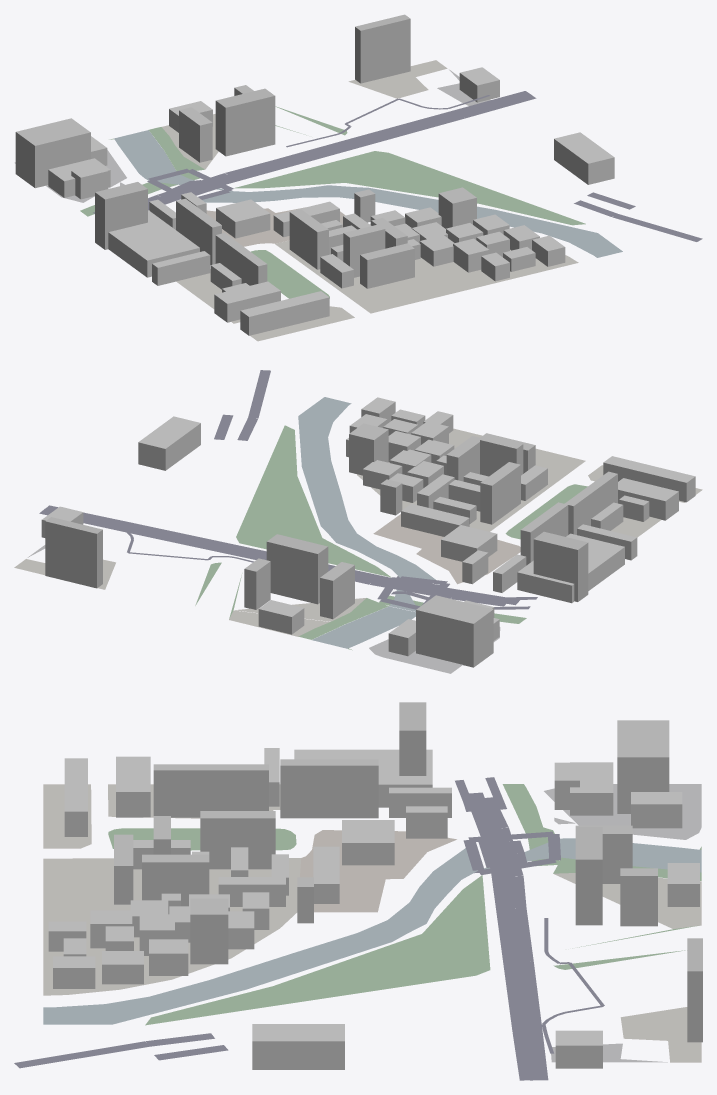
The model's file is 104_103_mid.glb.
3 views of the same model, one above another, from view 1: azimuth 30°, elevation 25°; view 2: azimuth 150°, elevation 25°; view 3: azimuth 270°, elevation 25° (orthographic). The views are drawn at different scales.
Size of the model in its own units: 564 by 59.73 by 523.
